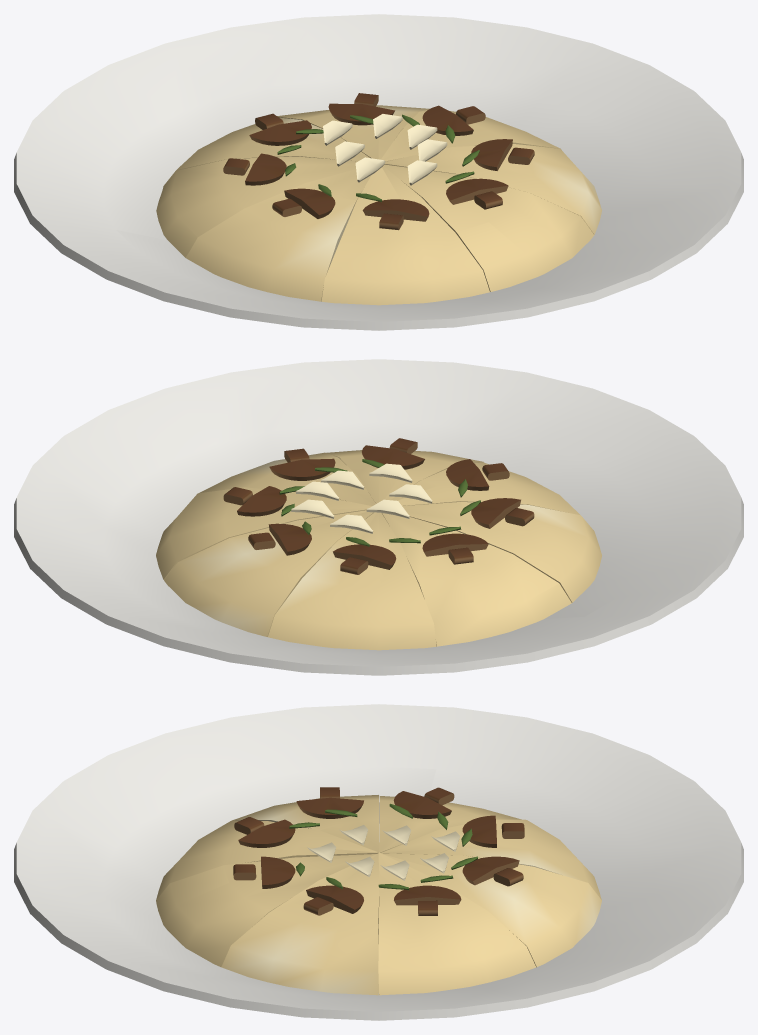
The model's file is dish-risotto-lod1.glb.
3 views of the same model, one above another, from view 1: azimuth 30°, elevation 25°; view 2: azimuth 150°, elevation 25°; view 3: azimuth 270°, elevation 25° (orthographic).
Parts seen in each view (by area): view 1: risotto.lod1__table porcelain, risotto.lod1__food glaze, risotto.lod1__food; view 2: risotto.lod1__table porcelain, risotto.lod1__food glaze, risotto.lod1__food; view 3: risotto.lod1__table porcelain, risotto.lod1__food glaze, risotto.lod1__food.
Part boxes in pixels (x1=…): risotto.lod1__table porcelain: x1=14, y1=14, x2=743, y2=330; risotto.lod1__food glaze: x1=156, y1=105, x2=601, y2=305; risotto.lod1__food: x1=223, y1=93, x2=534, y2=230; risotto.lod1__table porcelain: x1=14, y1=359, x2=743, y2=675; risotto.lod1__food glaze: x1=156, y1=450, x2=601, y2=650; risotto.lod1__food: x1=223, y1=438, x2=534, y2=574; risotto.lod1__table porcelain: x1=14, y1=704, x2=743, y2=1020; risotto.lod1__food glaze: x1=156, y1=795, x2=601, y2=995; risotto.lod1__food: x1=233, y1=787, x2=524, y2=915.
Size of the model in its own units: 0.26 by 0.0445 by 0.2586.
